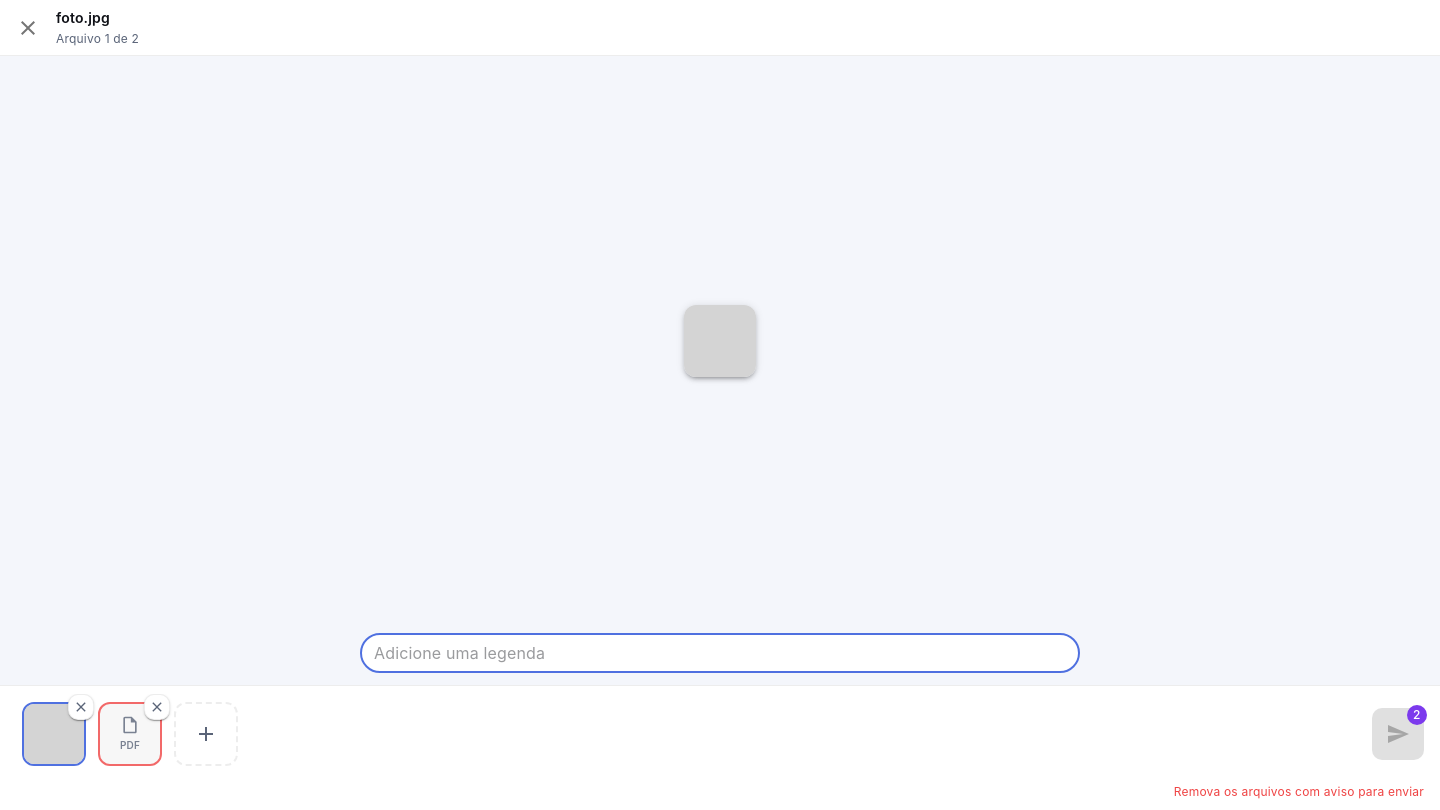
it: AttachmentPreviewPanel — avisos e bloqueios › bloqueia o envio com arquivo vazio e libera ao removê-lo
Expected: the text "Remova os arquivos com aviso para enviar" is shown, [1174, 784, 1424, 799]
Step 1. Click the button "PDF" → (130, 734), box [98, 702, 162, 766]
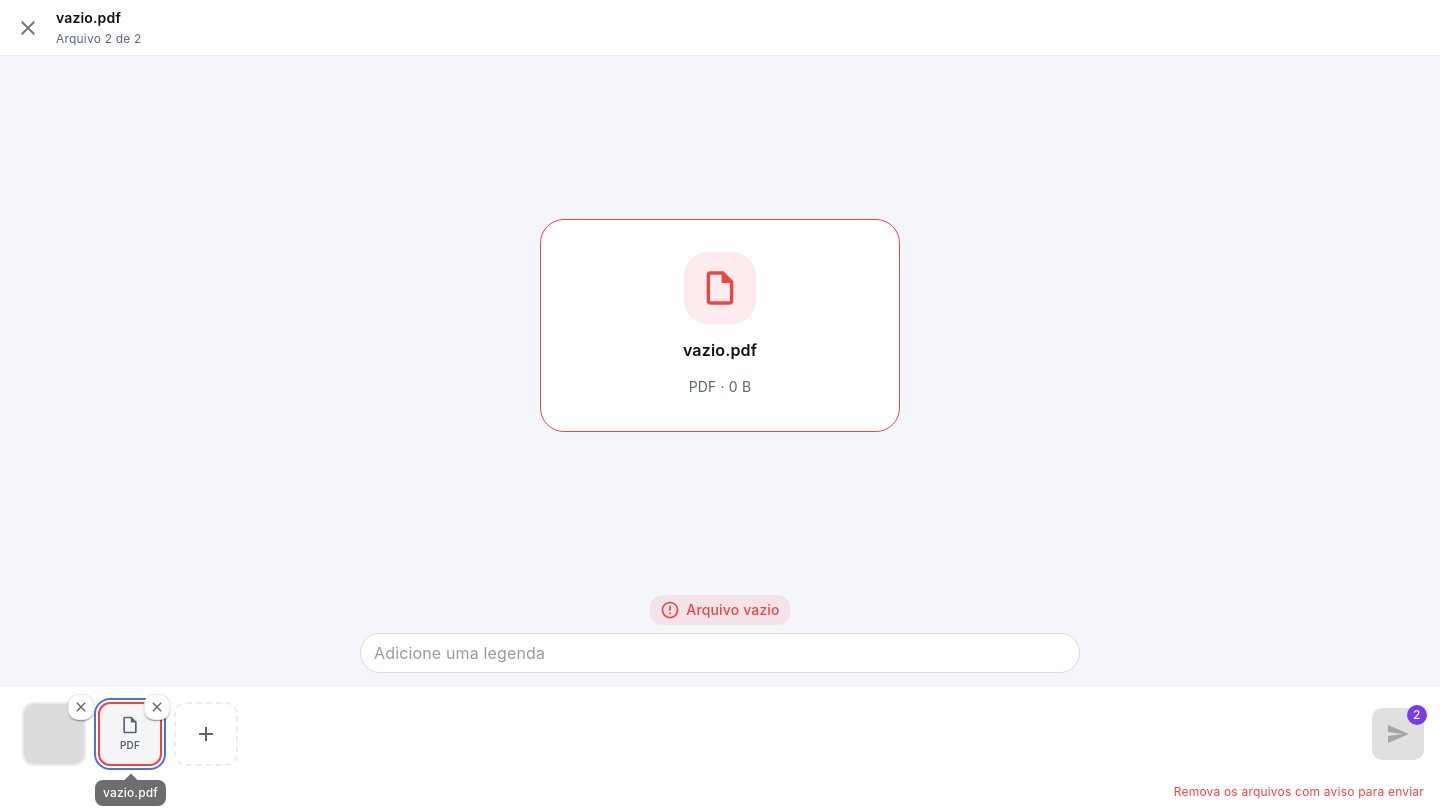
Expected: the text "Arquivo vazio" is shown, [686, 599, 780, 621]
Step 2. Click the button named "Remover vazio.pdf" → (157, 707), box [144, 694, 170, 720]
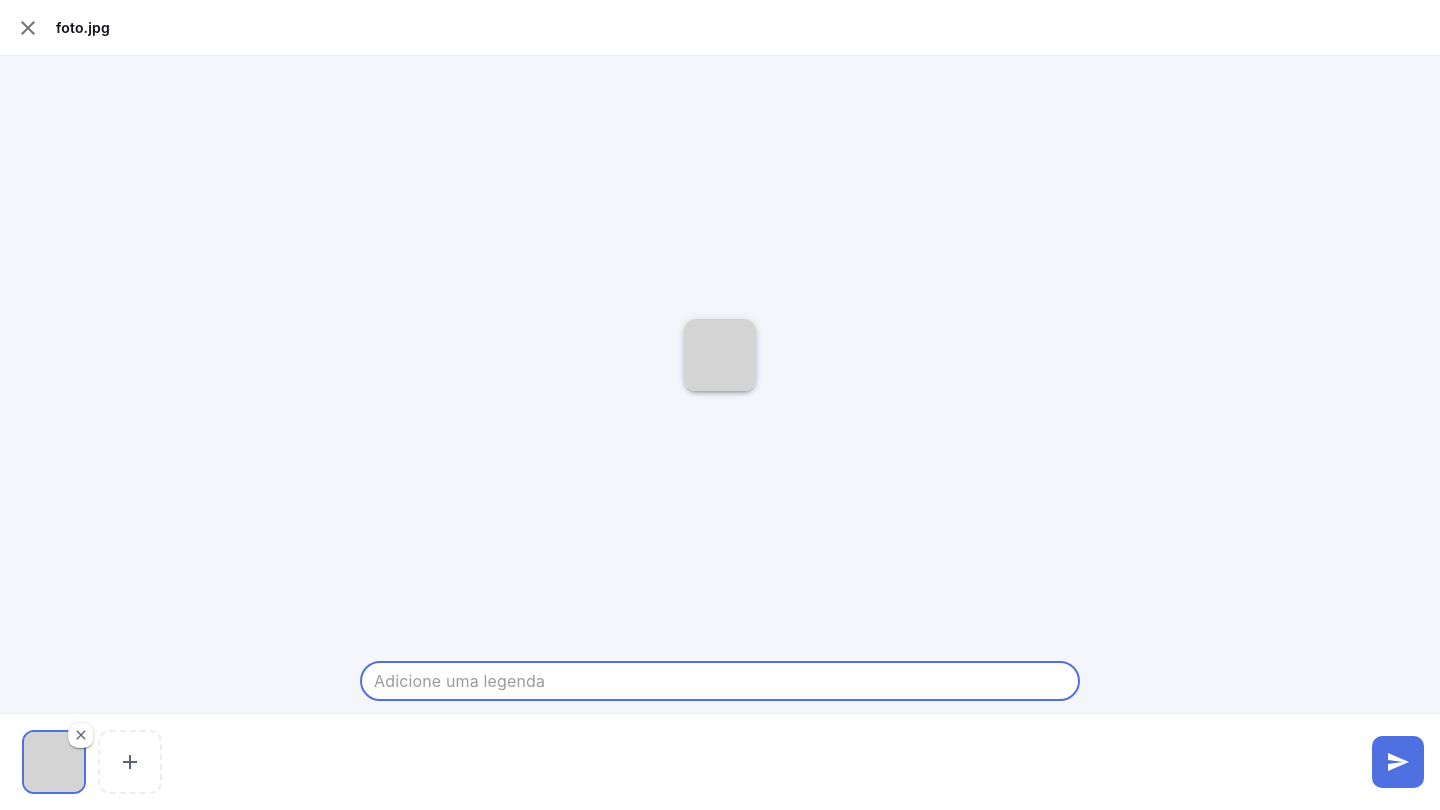
Expected: the button named "Enviar 1 arquivo" is enabled, [1372, 736, 1424, 788]
Expected: the text "Remova os arquivos com aviso para enviar" is gone
